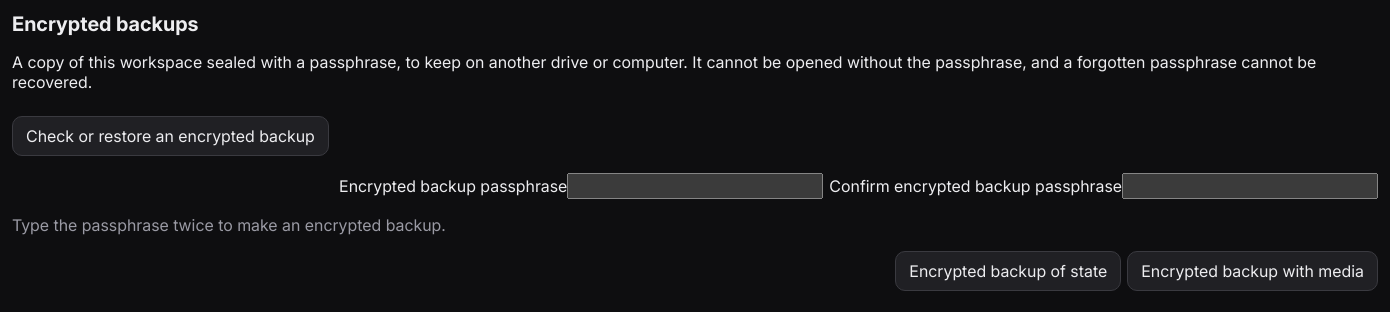
it: says why a backup was not made in its own words: archive-passphrase-invalid
In the password field labelled "Encrypted backup passphrase": x=695, y=186 [567,173,823,199], type "correct horse battery staple"
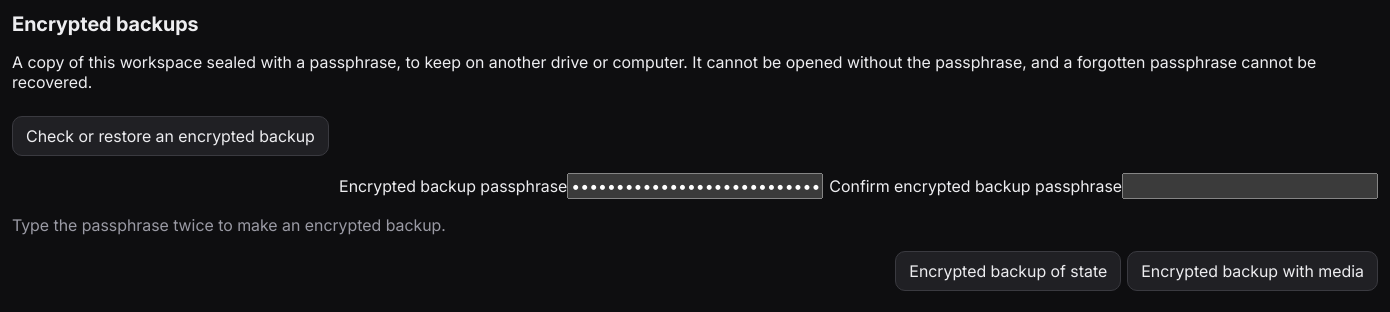
In the password field labelled "Confirm encrypted backup passphrase": x=1250, y=186 [1122,173,1378,199], type "correct horse battery staple"
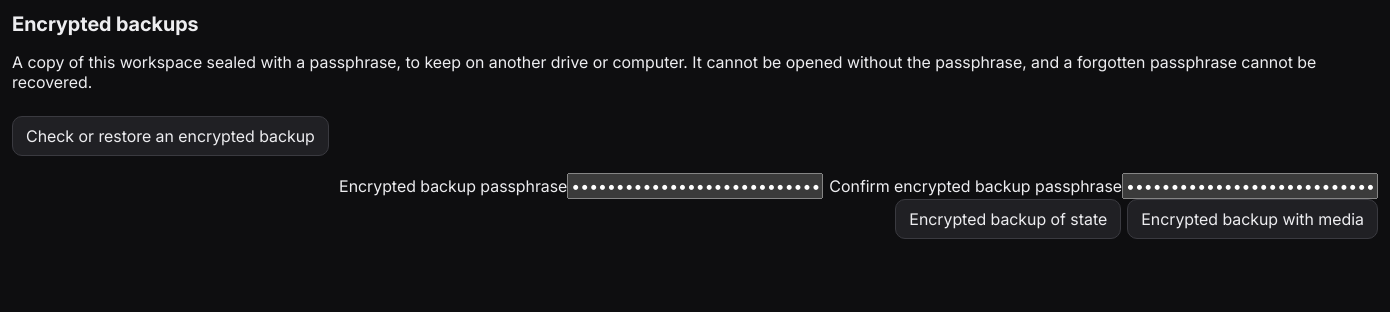
Click the button "Encrypted backup of state": x=1008, y=219 [895,199,1121,239]
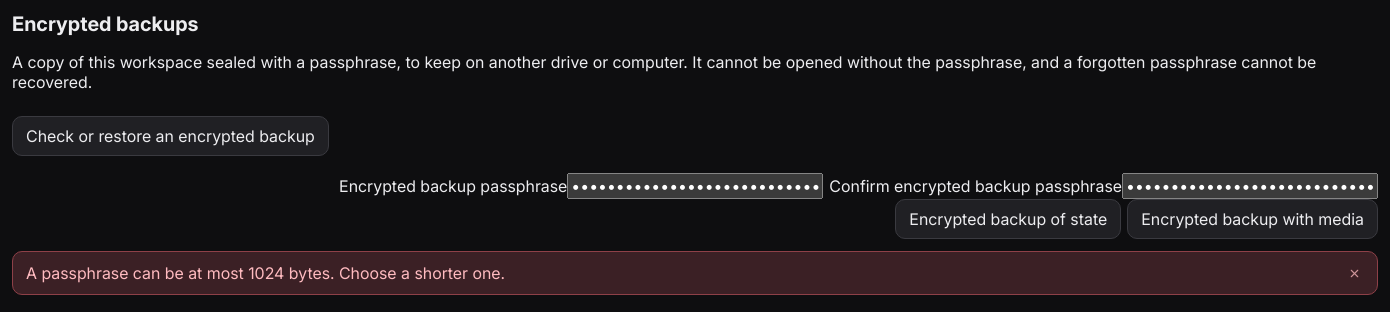
Expected: the message reads "A passphrase can be at most 1024 bytes. Choose a shorter one.", [26,263,505,283]
